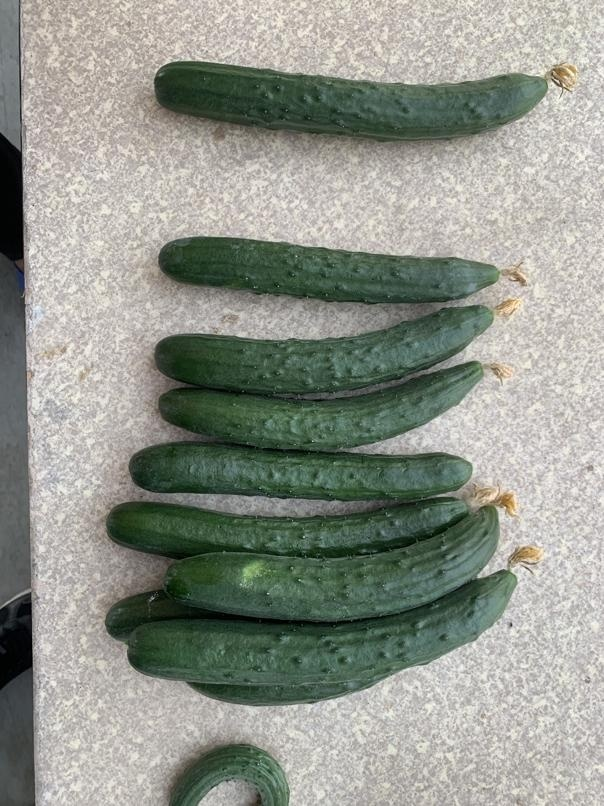mature: (125, 564, 525, 685), (162, 499, 501, 620), (145, 48, 552, 136), (157, 352, 491, 450), (155, 306, 505, 390), (100, 486, 473, 557), (155, 231, 507, 303), (128, 445, 476, 504)
